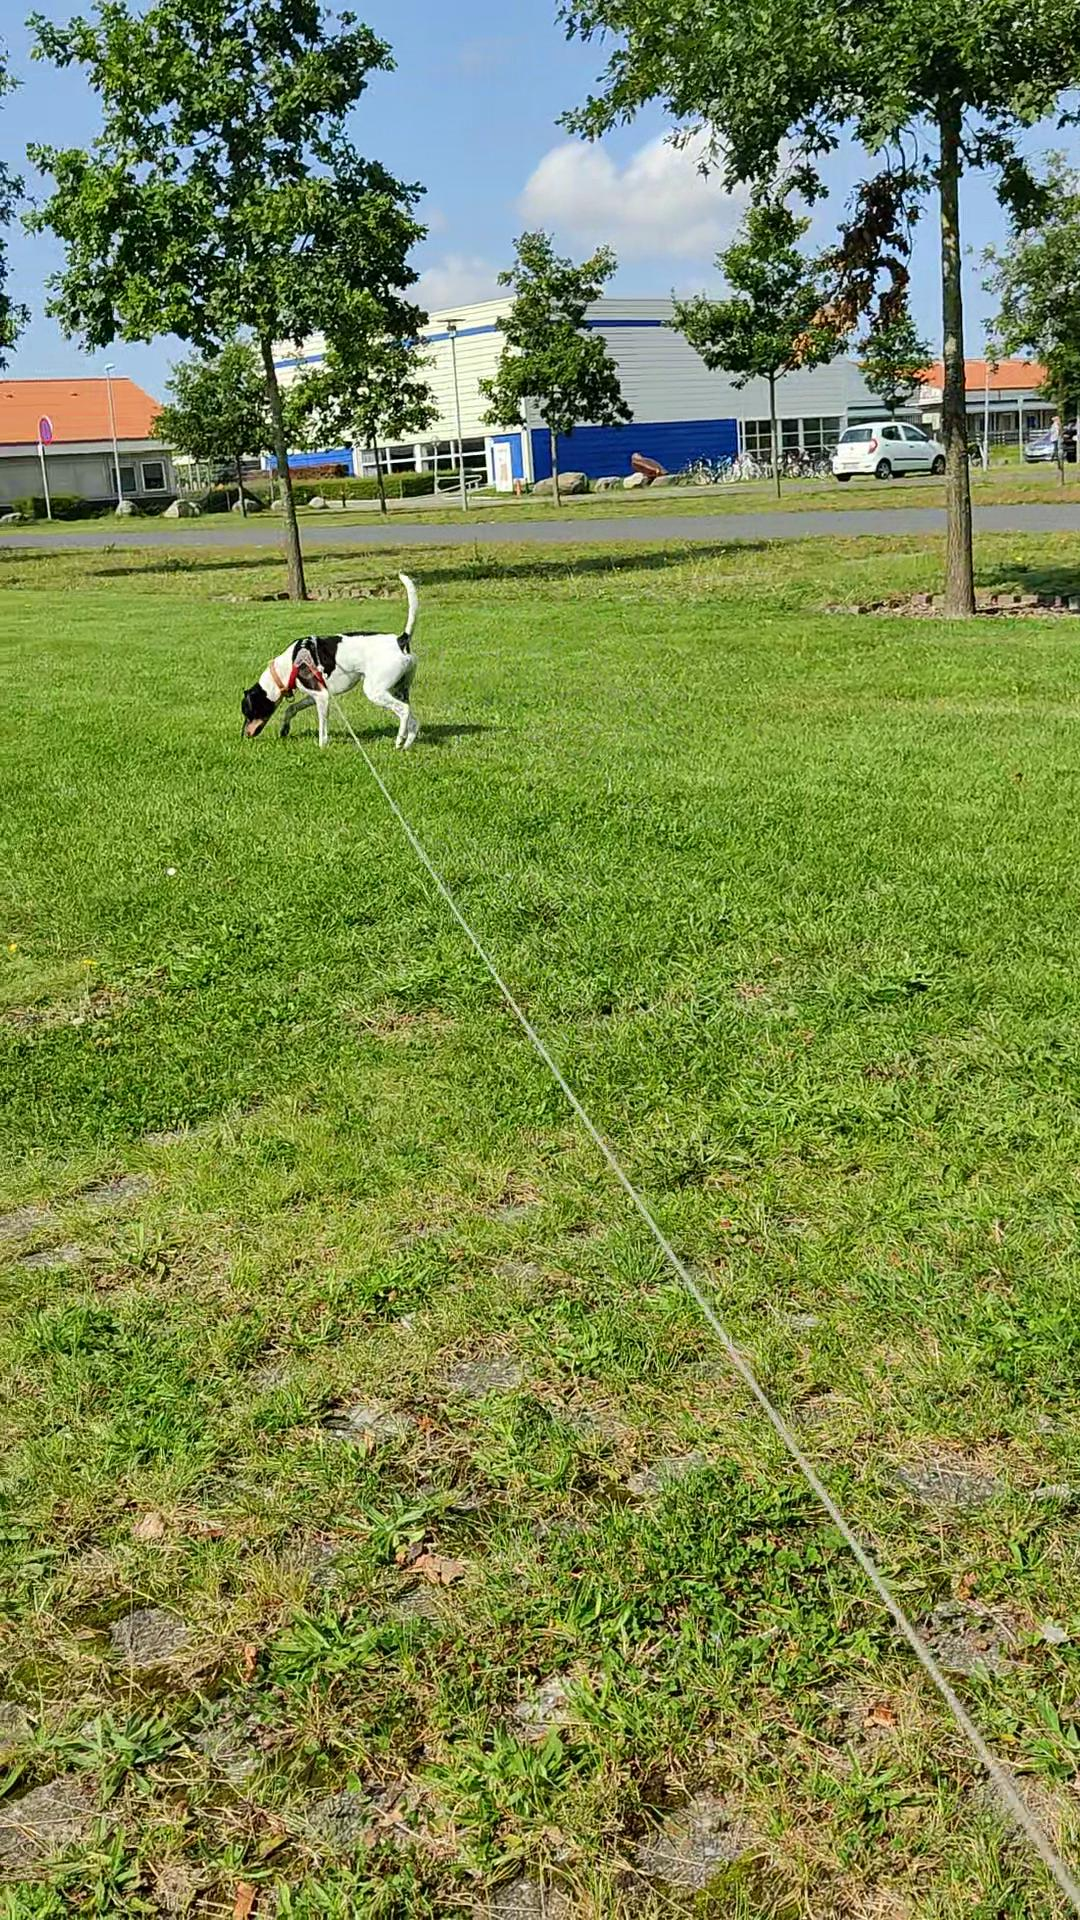Dog: (233, 567, 429, 753)
